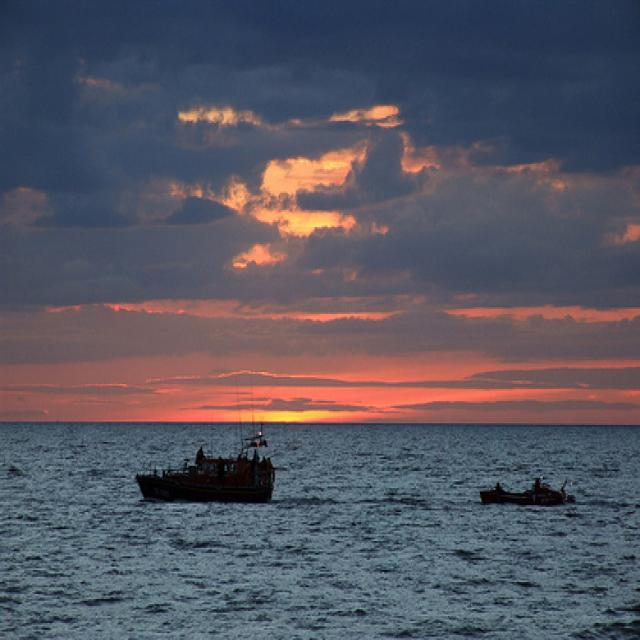Boat: (103, 430, 286, 539), (457, 460, 588, 538)
